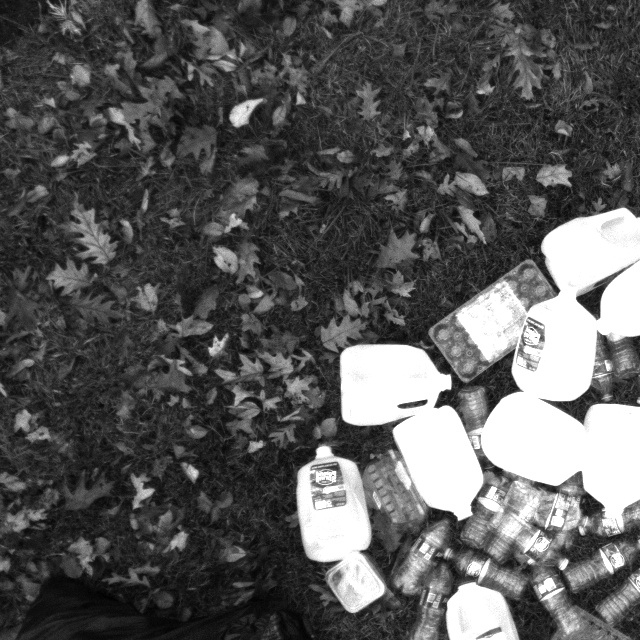bottle: (506, 478, 596, 536), (493, 506, 568, 572), (402, 509, 454, 602), (484, 488, 547, 563), (532, 552, 588, 634), (457, 471, 517, 545), (569, 534, 640, 596), (411, 559, 455, 640), (456, 381, 495, 469), (586, 329, 624, 406), (584, 493, 640, 534)
can: (482, 385, 588, 494), (335, 339, 453, 433), (392, 410, 483, 522), (300, 436, 376, 561), (538, 200, 640, 291), (521, 292, 599, 404), (578, 398, 640, 528), (442, 575, 529, 640), (440, 580, 531, 640)
container: (422, 266, 565, 378), (358, 445, 427, 552), (325, 556, 386, 615)
